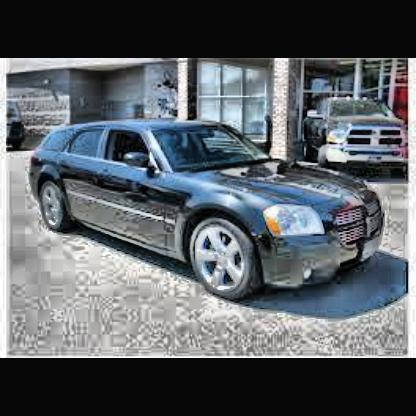Dodge Magnum Wagon 2008: (31, 112, 390, 308)
